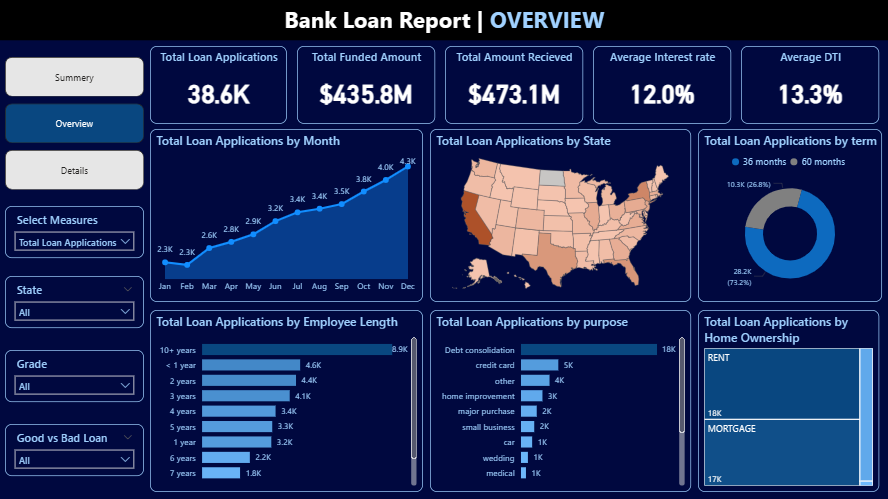

This screenshot's page, from the dashboard's own definition file:
{"tool":"powerbi","page":{"name":"Overview","canvas":[1280,720],"ordinal":1},"visuals":[{"type":"textbox","box":[0,0,1280.2,57.6],"z":0},{"type":"card","title":"Total Loan Applications","fields":{"Values":["_Measures.Total Loan Applications"]},"box":[216,66.2,197.3,112.3],"z":1000},{"type":"card","title":"Total Funded Amount","fields":{"Values":["_Measures.Total Funded Amount"]},"box":[427.7,66.2,198.7,112.3],"z":2000},{"type":"card","title":"Total Amount Recieved","fields":{"Values":["_Measures.Total Amount recieved"]},"box":[640.8,66.2,198.7,112.3],"z":3000},{"type":"card","title":"Average Interest rate","fields":{"Values":["_Measures.Avg Interest Rate"]},"box":[853.9,66.2,198.7,112.3],"z":4000},{"type":"card","title":"Average DTI","fields":{"Values":["_Measures.Avg DTI"]},"box":[1067,66.2,198.7,112.3],"z":5000},{"type":"slicer","fields":{"Values":["public financial_loan.address_state"]},"box":[7.2,397.4,200.2,74.9],"z":6000},{"type":"slicer","fields":{"Values":["public financial_loan.grade"]},"box":[7.2,504,200.2,74.9],"z":7000},{"type":"slicer","fields":{"Values":["public financial_loan.Good vs Bad Loan"]},"box":[7.2,610.6,200.2,74.9],"z":8000},{"type":"areaChart","fields":{"Y":["_Measures.Total Loan Applications"],"Category":["Date Table.Month"]},"box":[216,185.8,393.1,249.1],"z":9000},{"type":"slicer","fields":{"Values":["Select Measures.Select Measures"]},"box":[7.2,296.6,200.2,74.9],"z":10000},{"type":"shapeMap","fields":{"Value":["_Measures.Total Loan Applications"],"Category":["public financial_loan.address_state"]},"box":[619.2,185.8,375.8,249.1],"z":11000},{"type":"donutChart","title":"Total Loan Applications by term","fields":{"Y":["_Measures.Total Loan Applications"],"Category":["public financial_loan.term"]},"box":[1005.1,185.8,265,249.1],"z":12000},{"type":"barChart","fields":{"Y":["_Measures.Total Loan Applications"],"Category":["public financial_loan.emp_length"]},"box":[216,446.4,393.1,262.1],"z":13000},{"type":"barChart","fields":{"Y":["_Measures.Total Loan Applications"],"Category":["public financial_loan.purpose"]},"box":[619.2,446.4,375.8,262.1],"z":14000},{"type":"treemap","fields":{"Values":["_Measures.Total Loan Applications"],"Group":["public financial_loan.home_ownership"]},"box":[1005.1,446.4,260.6,262.1],"z":15000},{"type":"pageNavigator","box":[7.2,82.1,200.2,191.5],"z":16000}]}

Visuals, with their boxes in screenshot pixels (x1, y1, x2, y2), scaled from the page's 1280x720 canvas onto the 888x499 screenshot:
textbox: (left=0, top=0, right=887, bottom=40)
"Total Loan Applications" card: (left=150, top=46, right=287, bottom=124)
"Total Funded Amount" card: (left=297, top=46, right=435, bottom=124)
"Total Amount Recieved" card: (left=445, top=46, right=582, bottom=124)
"Average Interest rate" card: (left=592, top=46, right=730, bottom=124)
"Average DTI" card: (left=740, top=46, right=878, bottom=124)
slicer - public financial_loan.address_state: (left=5, top=275, right=144, bottom=327)
slicer - public financial_loan.grade: (left=5, top=349, right=144, bottom=401)
slicer - public financial_loan.Good vs Bad Loan: (left=5, top=423, right=144, bottom=475)
areaChart - _Measures.Total Loan Applications x Date Table.Month: (left=150, top=129, right=423, bottom=301)
slicer - Select Measures.Select Measures: (left=5, top=206, right=144, bottom=257)
shapeMap - _Measures.Total Loan Applications x public financial_loan.address_state: (left=430, top=129, right=690, bottom=301)
"Total Loan Applications by term" donutChart: (left=697, top=129, right=881, bottom=301)
barChart - _Measures.Total Loan Applications x public financial_loan.emp_length: (left=150, top=309, right=423, bottom=491)
barChart - _Measures.Total Loan Applications x public financial_loan.purpose: (left=430, top=309, right=690, bottom=491)
treemap - _Measures.Total Loan Applications x public financial_loan.home_ownership: (left=697, top=309, right=878, bottom=491)
pageNavigator: (left=5, top=57, right=144, bottom=190)
